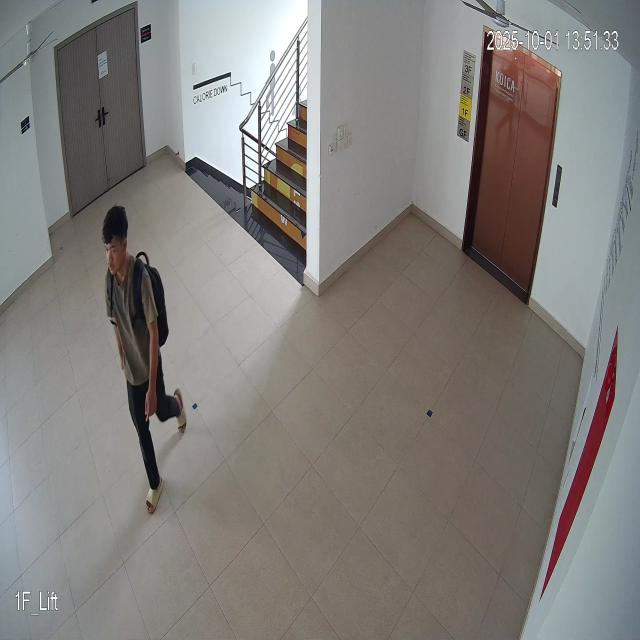face: (99, 202, 131, 281)
